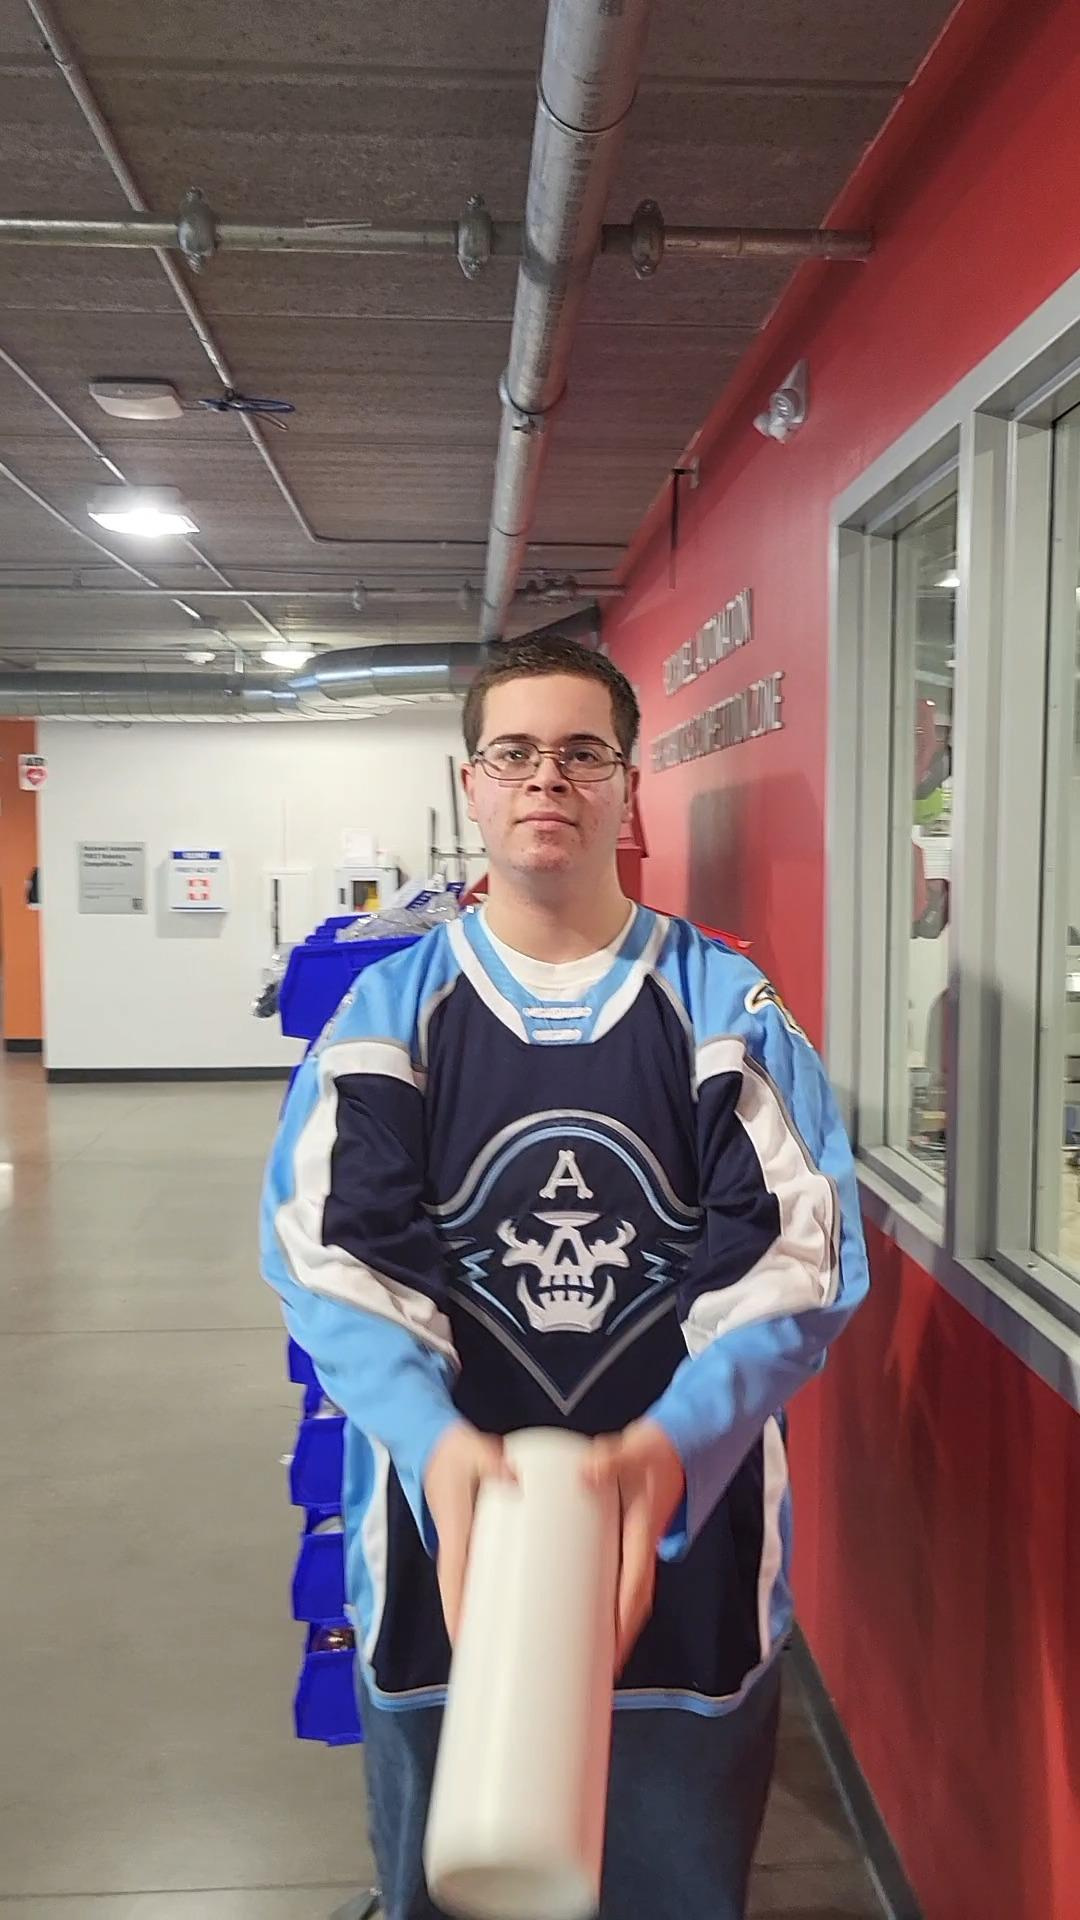coral: (413, 1416, 644, 1920)
